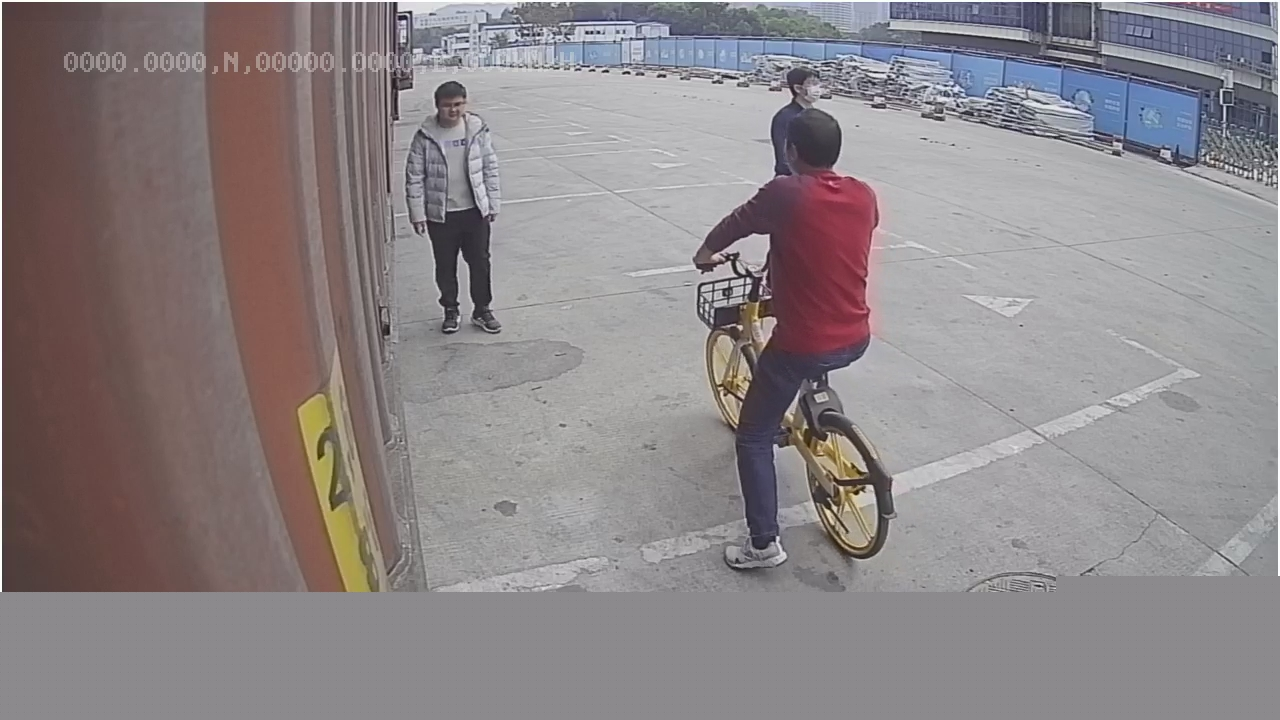person: (404, 75, 507, 338)
